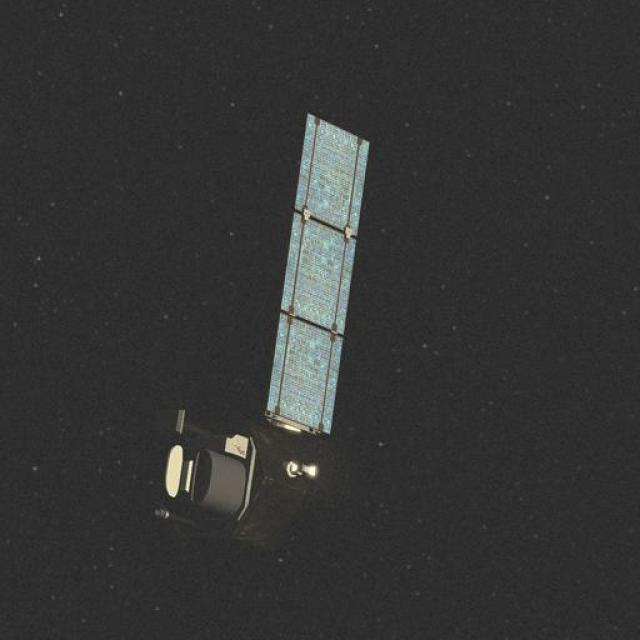earth_observation_sat_1: (114, 263, 385, 562)
